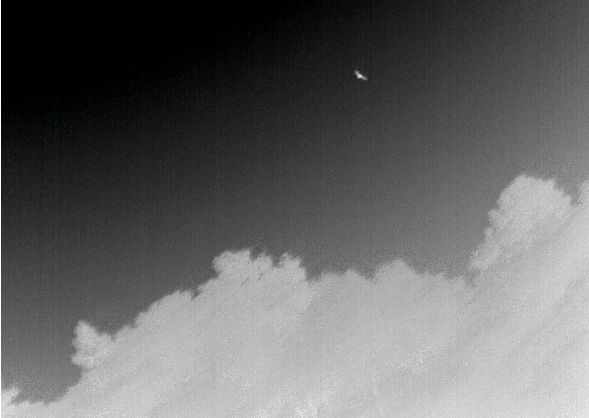dim target: (353, 68, 368, 81)
